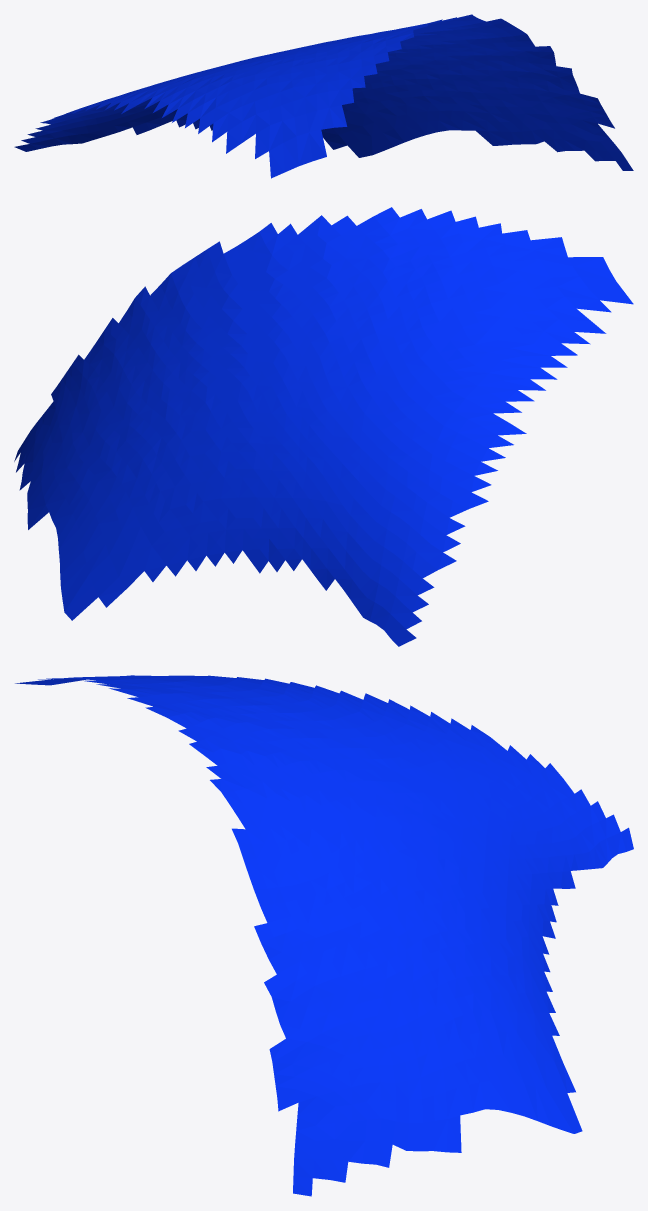
File: Sph_inv_2_3_RemeshedV.obj
3 views of the same model, one above another, from view 1: azimuth 30°, elevation 25°; view 2: azimuth 150°, elevation 25°; view 3: azimuth 270°, elevation 25° (orthographic). The views are drawn at different scales.
Size of the model in its own units: 1.07 by 0.5673 by 0.9078.
